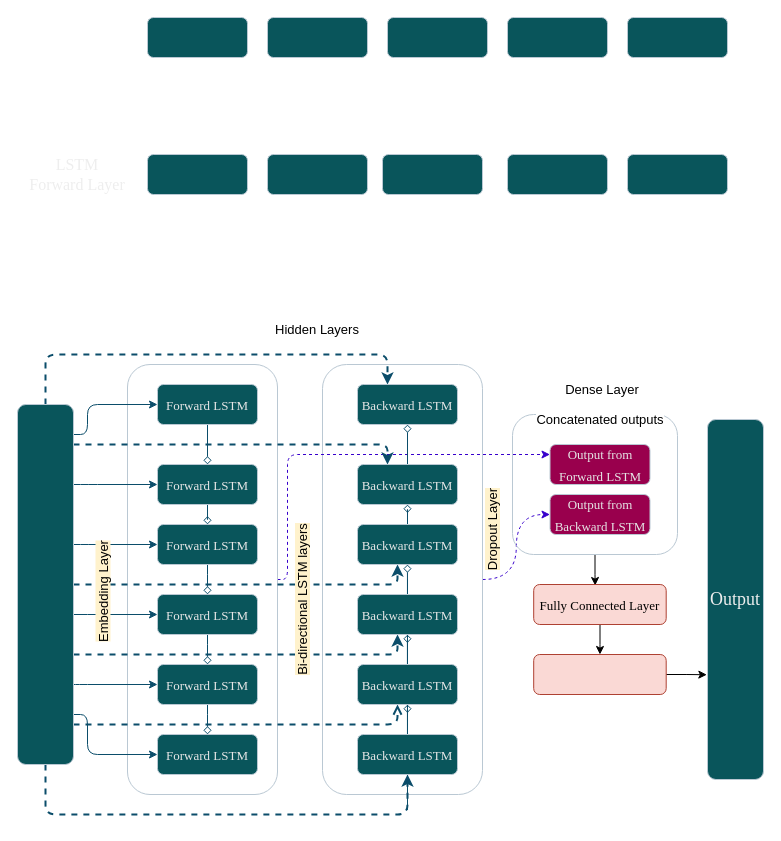
Some shapes in this 781 by 841 pixel diagram are drawn without their labels. Each missing label, with the centre of its shape:
"Input" belongs at point (45, 584).
"Softmax Activation" belongs at point (599, 674).
